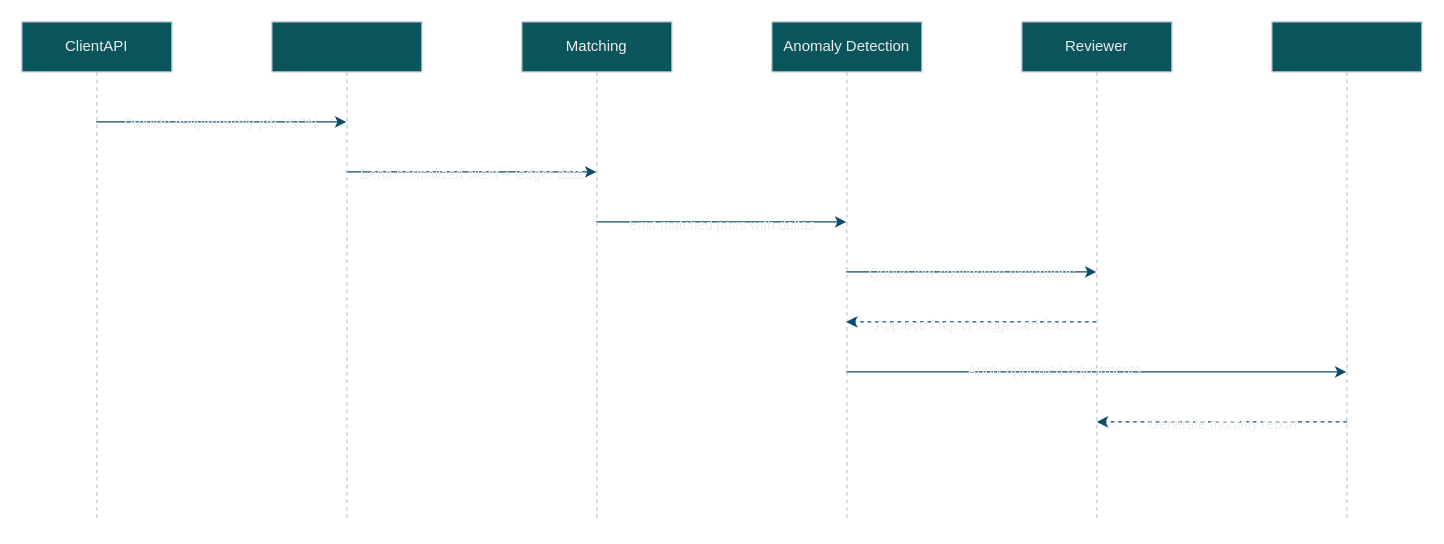
The diagram is 1444 pixels wide and 544 high, and some of its shapes have lost their labels. Each missing label, with the box of its shape:
Ingestion: (271, 21, 422, 522)
LedgerDB: (1271, 21, 1422, 522)
